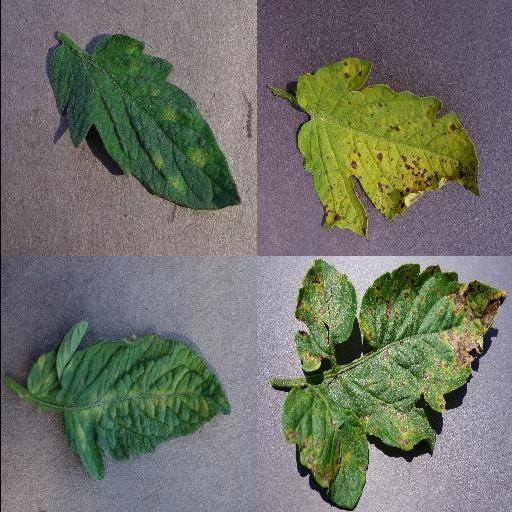Leaf Mold: (44, 35, 240, 211), (24, 321, 230, 480)
Septoria: (283, 260, 505, 510), (293, 58, 481, 242)
